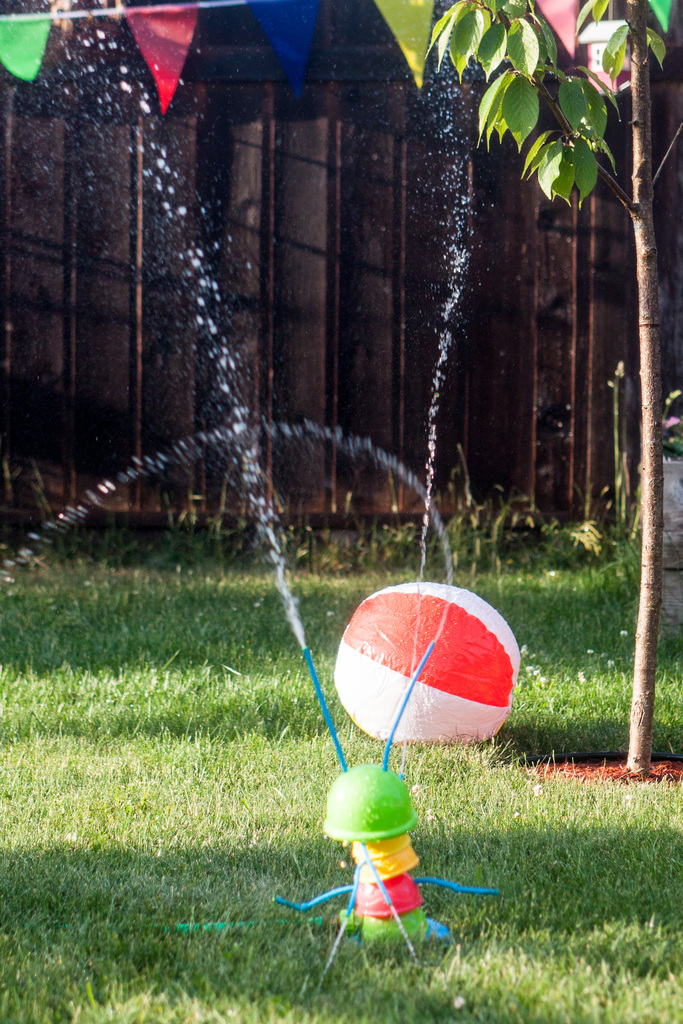Ball: (334, 579, 520, 743)
